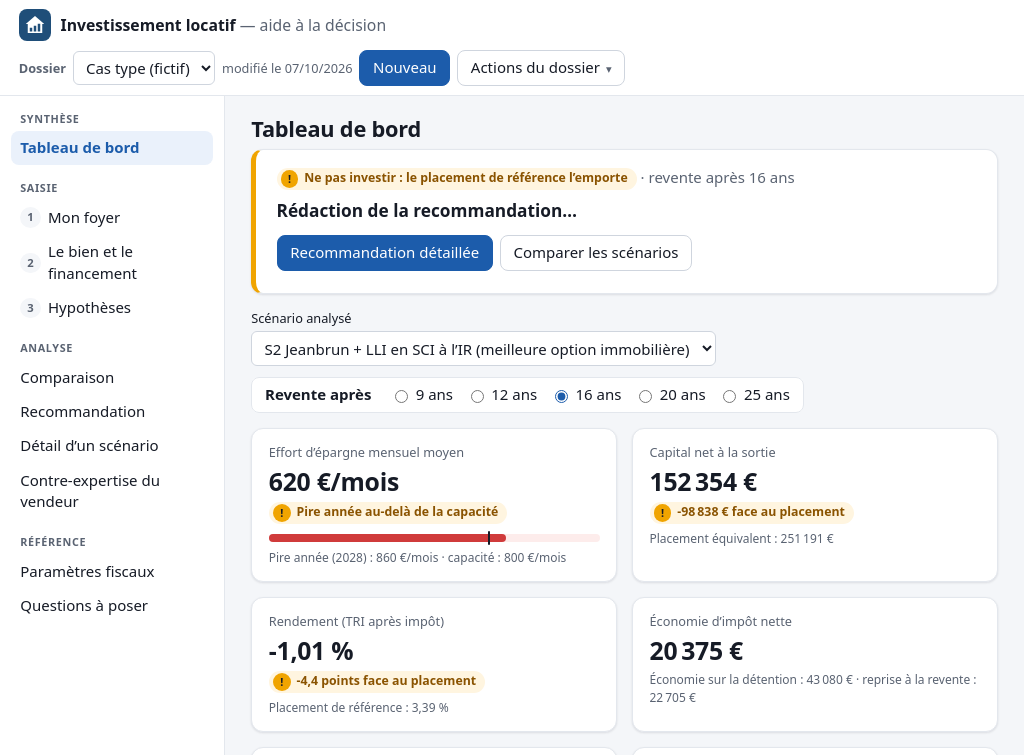
application › changer de dossier efface une saisie refusée de l’autre dossier
Step 1. Click the button "Nouveau" → (405, 68), box [359,50,450,86]
(page scrolled)
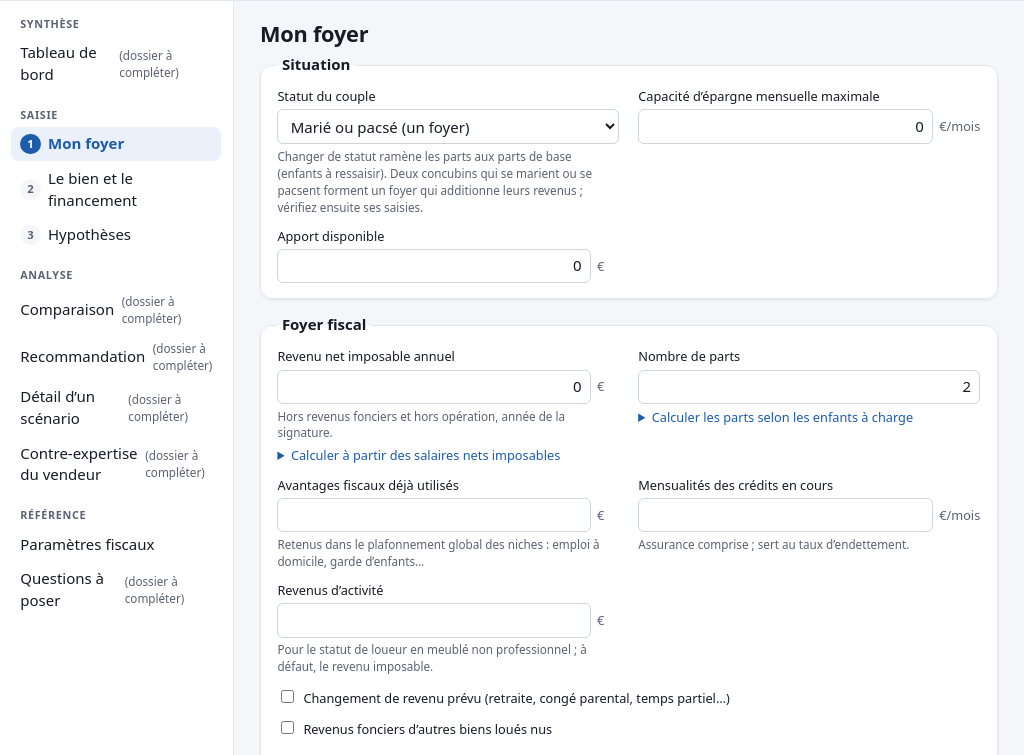
Step 2. Replace the text in the field labelled "Revenu net imposable annuel" with "12a" → (434, 387), box [277,370,591,404]
(page scrolled)
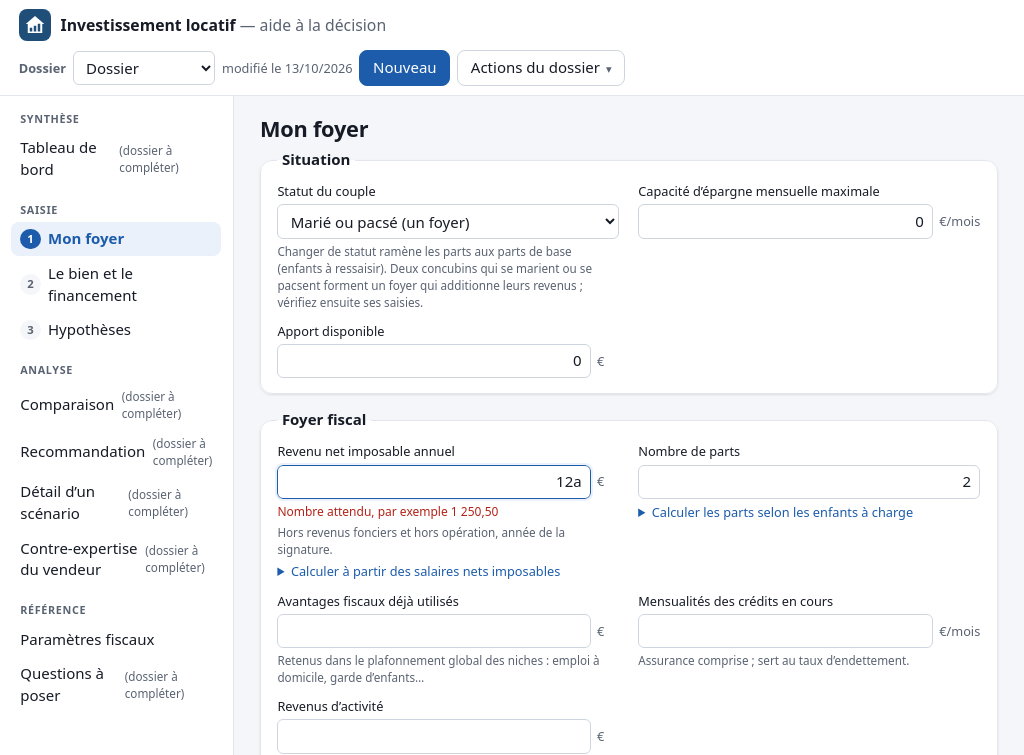
expect the message shows "Nombre attendu": met, box [277,502,498,520]
Step 3. Select "Cas type (fictif)" in the dropdown labelled "Dossier" → (144, 68), box [73,51,215,85]
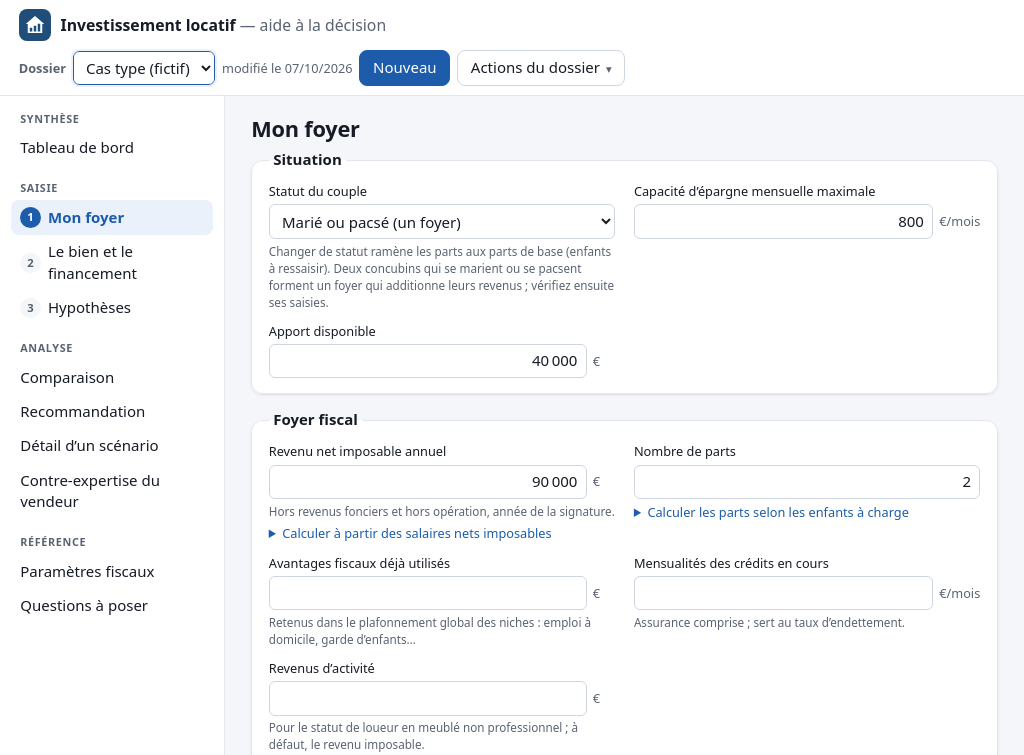
expect the message "Nombre attendu, par exemple 1 250,50" is gone: met
